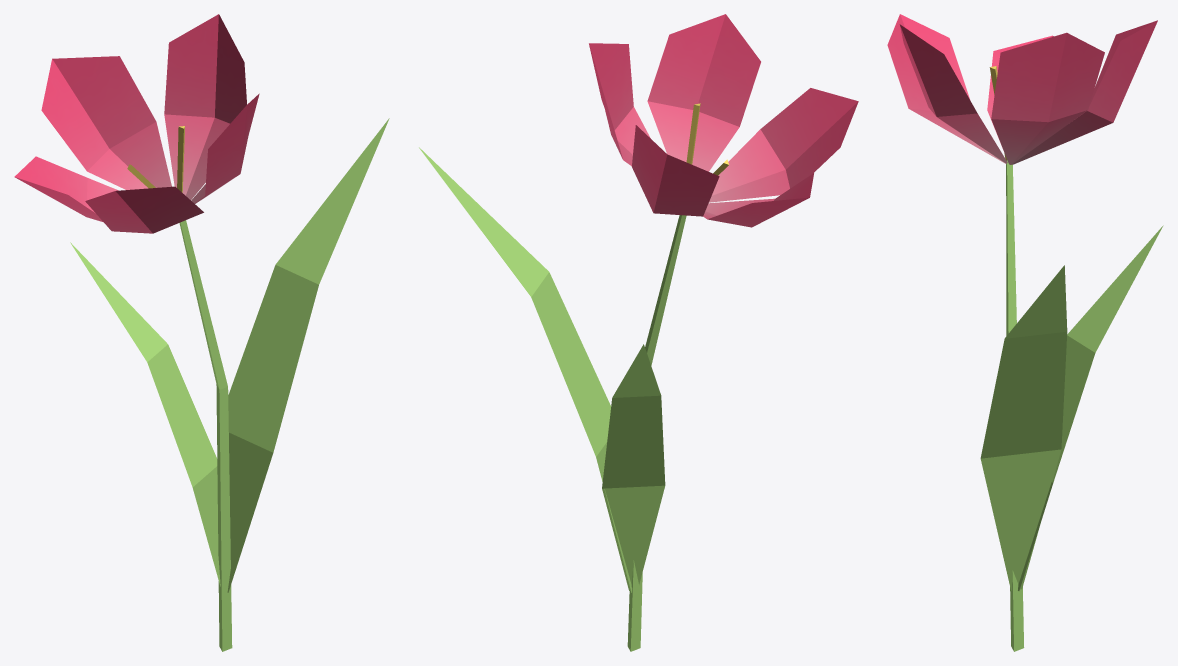
File: Flower_f_TwoS_10.fbx
3 views of the same model, side by side, from view 1: azimuth 30°, elevation 25°; view 2: azimuth 150°, elevation 25°; view 3: azimuth 270°, elevation 25° (orthographic). The views are drawn at different scales.
Visible parts, largest first — view 1: Flower_f_TwoS_10; view 2: Flower_f_TwoS_10; view 3: Flower_f_TwoS_10.
Boxes of the visible parts, x1,y1,x2,y2 form: Flower_f_TwoS_10: (14,14,389,651); Flower_f_TwoS_10: (419,14,858,651); Flower_f_TwoS_10: (887,14,1163,651).
Size of the model in its own units: 0.389 by 0.5966 by 0.2387.
